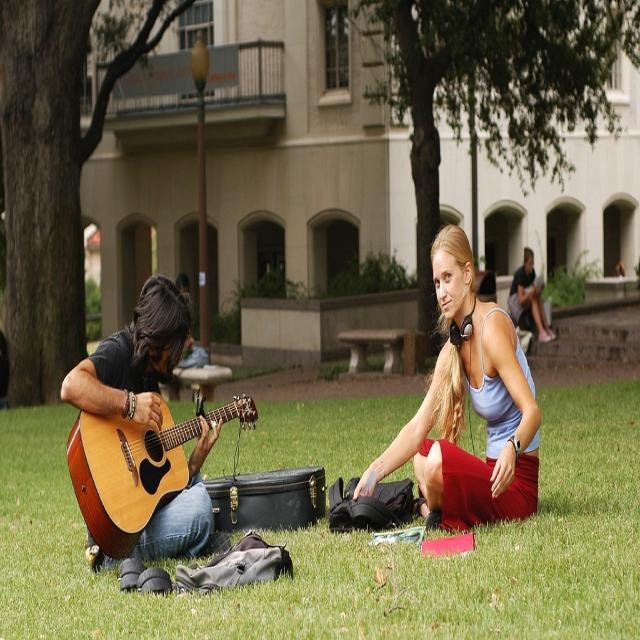guitar: (64, 394, 258, 561)
